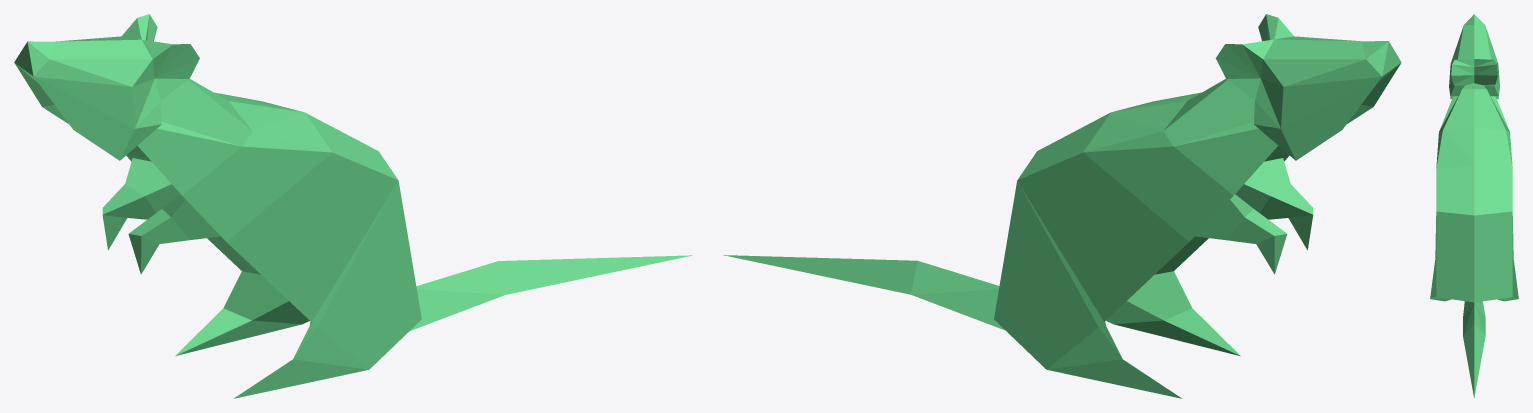
Rendered from Rat.fbx.
3 renders of one model, left to right at view 1: azimuth 30°, elevation 25°; view 2: azimuth 150°, elevation 25°; view 3: azimuth 270°, elevation 25°, orthographic. The views are drawn at different scales.
Parts seen in each view (by area): view 1: Rat; view 2: Rat; view 3: Rat.
Part boxes in pixels (box(x1,y1,x2,y2)): Rat: box(14, 14, 692, 398); Rat: box(723, 14, 1401, 398); Rat: box(1430, 14, 1518, 397).
Bounding box in the file's own units: 243 × 131 × 50.8.
